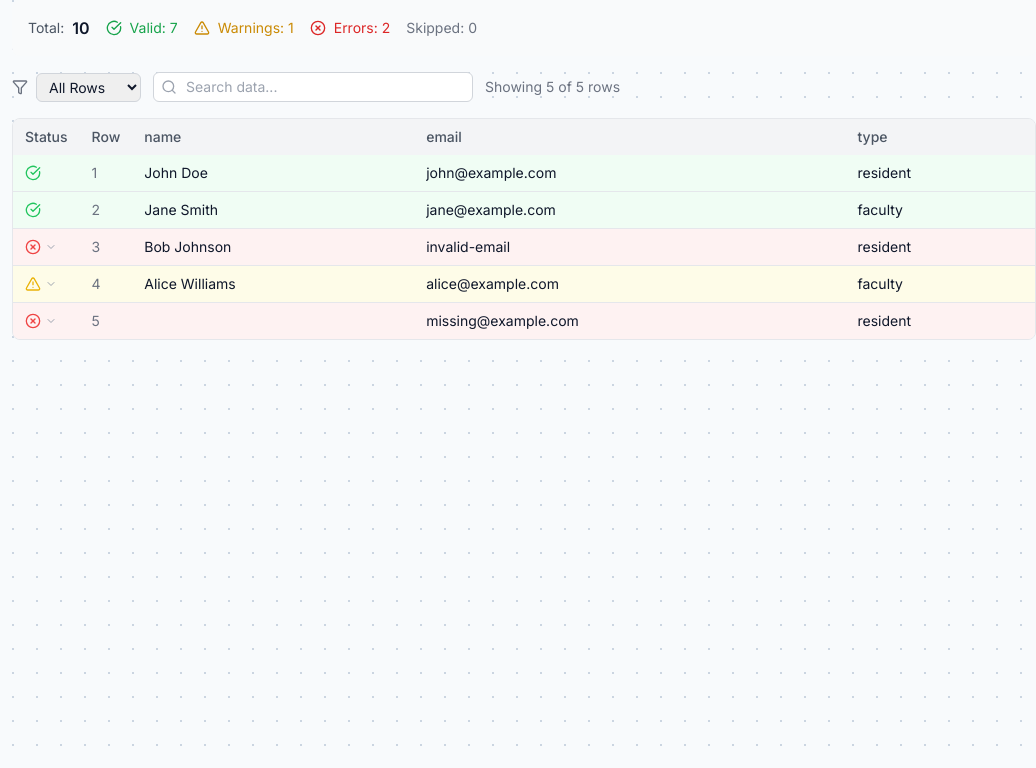
Scenario: ImportPreview › Row Expansion › should collapse expanded row when clicked again
Click the text "Bob Johnson".
click(524, 247)  # box [13,228,1035,266]
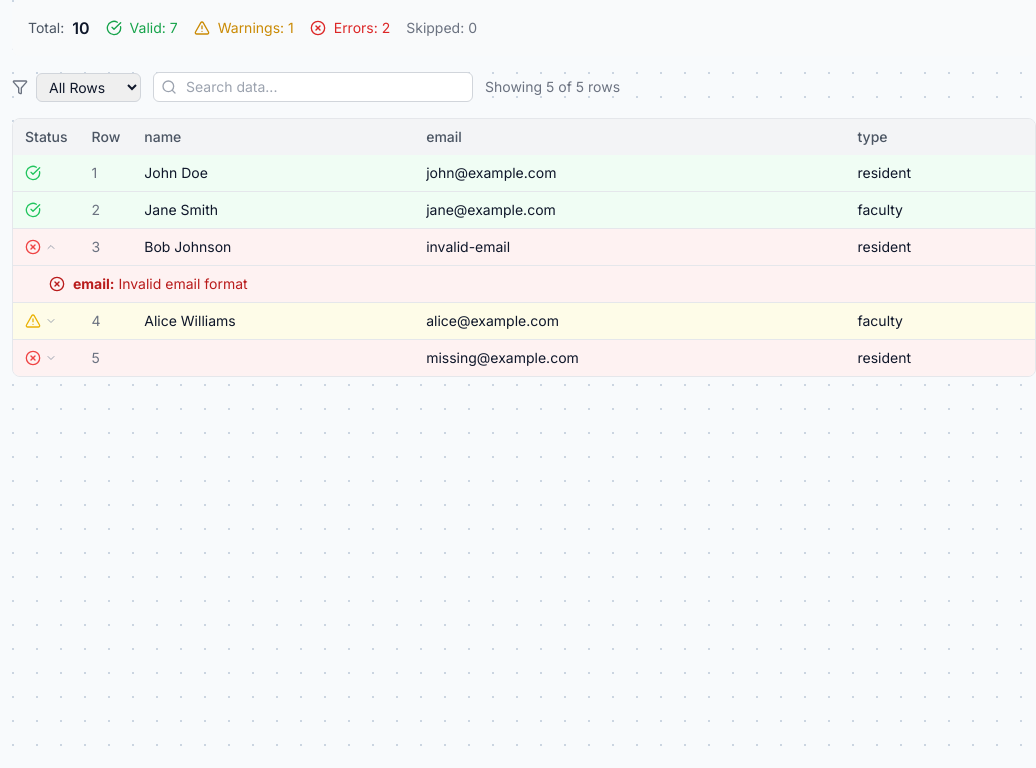
Expected: the text "email: Invalid email format" is shown, [73,274,248,294]
Click the text "Bob Johnson".
click(524, 247)  # box [13,228,1035,266]
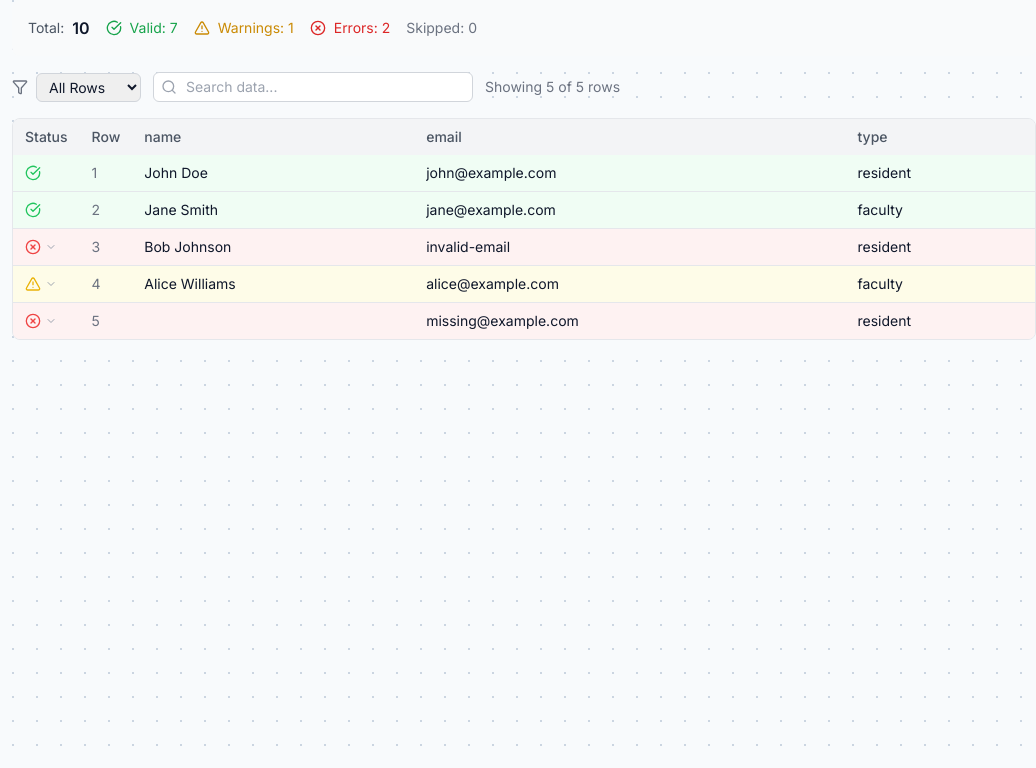
Expected: the text "Invalid email format" is gone
